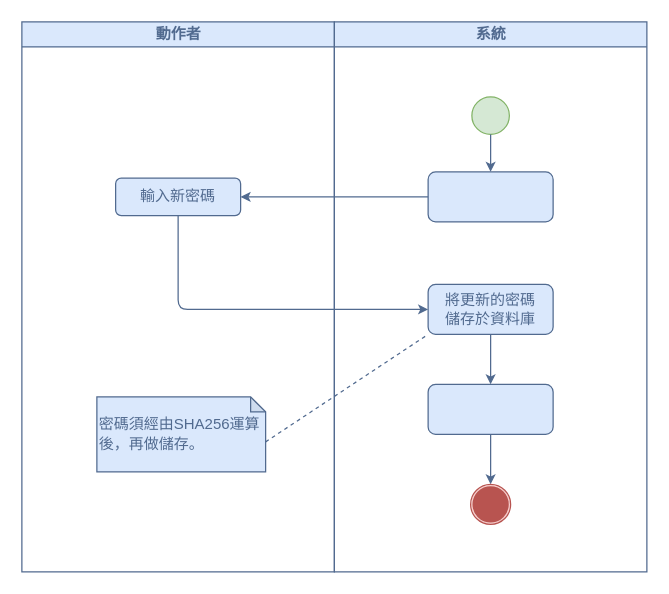
This 669x594 diagram has some shape labels left out. The shapes that lost their labels are listed below. From the top down, each one's centre as x and y in pixels, then its label:
point (490, 196): 顯示 更改密碼畫面
point (490, 408): 自動登入 顯示首頁
